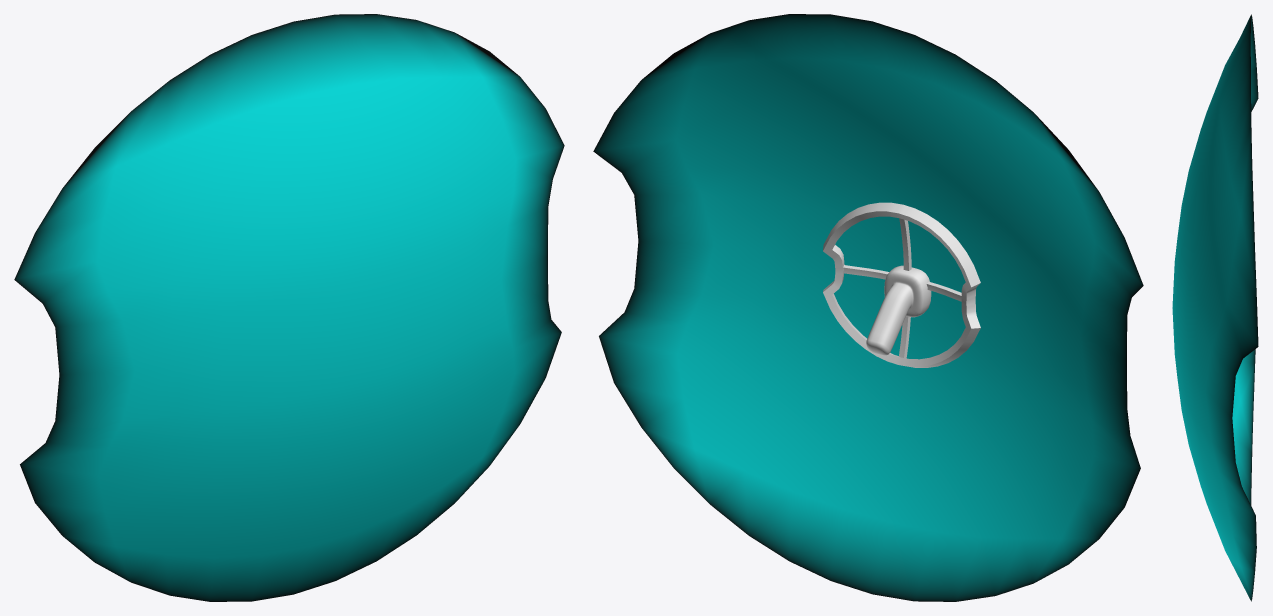
File: Shield_mesh.fbx
3 renders of one model, left to right at view 1: azimuth 30°, elevation 25°; view 2: azimuth 150°, elevation 25°; view 3: azimuth 270°, elevation 25°, orthographic. The views are drawn at different scales.
Visible parts, largest first — view 1: ShieldPlaneCurved_mesh; view 2: ShieldPlaneCurved_mesh, ShieldBrace_mesh, ShieldHandle_mesh; view 3: ShieldPlaneCurved_mesh.
Boxes of the visible parts, x1,y1,x2,y2 form: ShieldPlaneCurved_mesh: [14, 14, 564, 601]; ShieldPlaneCurved_mesh: [593, 14, 1143, 601]; ShieldBrace_mesh: [823, 202, 980, 367]; ShieldHandle_mesh: [866, 265, 931, 355]; ShieldPlaneCurved_mesh: [1172, 14, 1258, 601].
Size of the model in its own units: 81.25 by 80.83 by 11.89.
